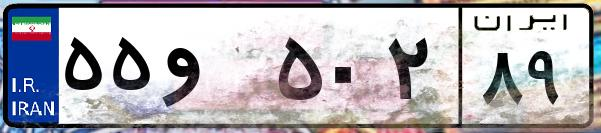0: (330, 28, 385, 110)
2: (385, 28, 445, 110)
5: (270, 28, 330, 110), (57, 26, 110, 100), (110, 28, 158, 98)
8: (475, 38, 525, 113)
9: (525, 38, 570, 115)
و: (158, 20, 270, 120)
